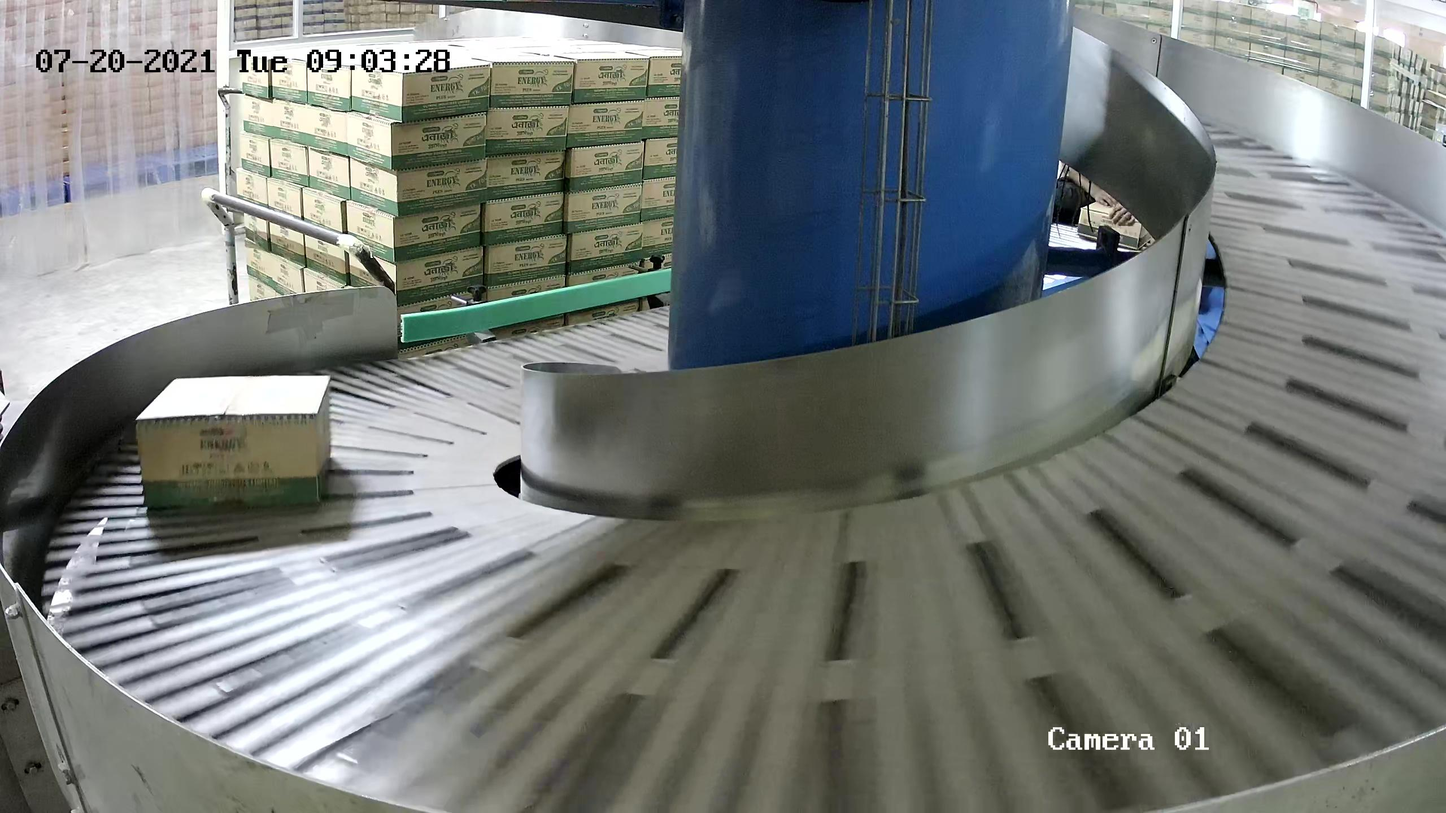Box: (135, 373, 333, 514)
